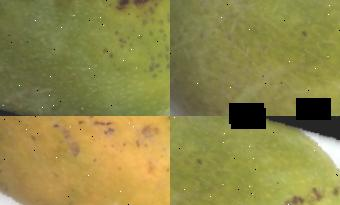PartiallyRipe: (0, 116, 170, 205)
Unripe: (0, 0, 170, 116), (170, 0, 340, 116), (170, 116, 340, 205)
